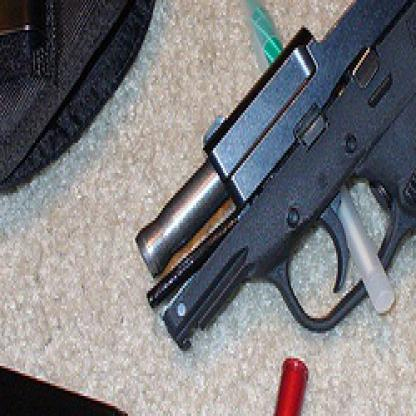gun: (0, 0, 268, 78)
